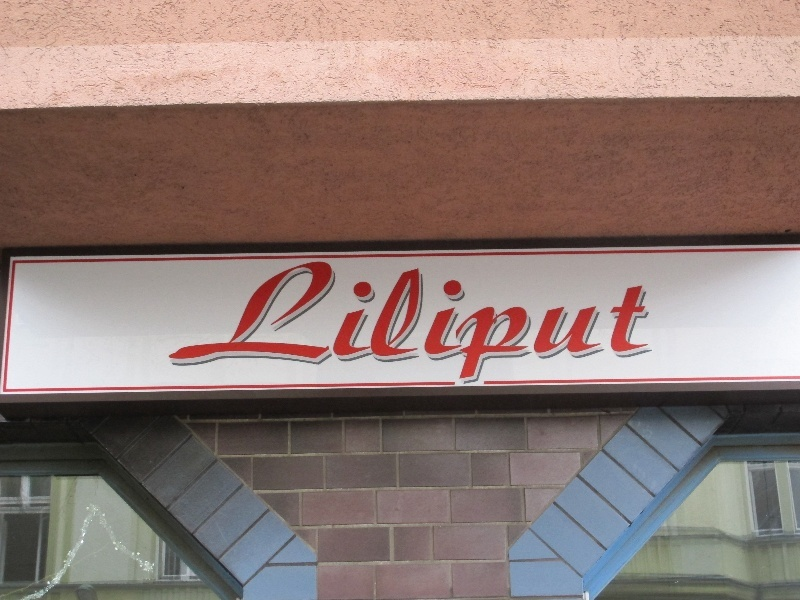text: (257, 251, 272, 393), (273, 251, 288, 393), (289, 251, 304, 393), (305, 251, 320, 393), (321, 251, 336, 393), (337, 251, 352, 393), (353, 251, 368, 393), (369, 251, 384, 393), (385, 251, 400, 393), (401, 251, 416, 393), (417, 251, 432, 393), (433, 251, 448, 393), (449, 251, 464, 393), (465, 251, 480, 393), (481, 251, 496, 393), (497, 251, 512, 393), (513, 251, 528, 393), (529, 251, 544, 393), (545, 251, 560, 393), (561, 251, 576, 393), (577, 251, 592, 393), (593, 251, 608, 393), (609, 251, 624, 393), (625, 251, 640, 393), (641, 251, 656, 393), (248, 251, 256, 393)
